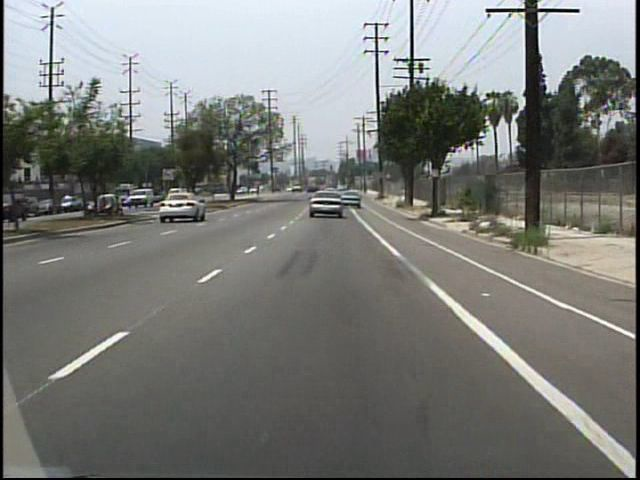person: (64, 193, 74, 215)
